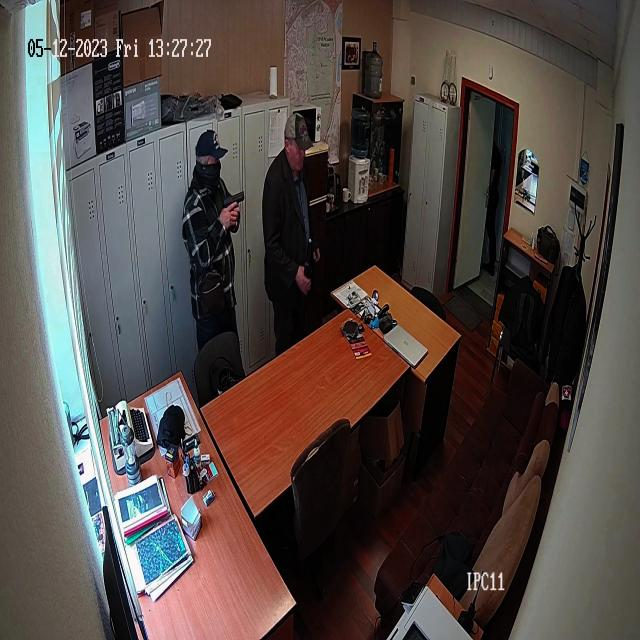gun: (180, 128, 246, 328), (262, 111, 320, 325), (223, 188, 244, 222)
